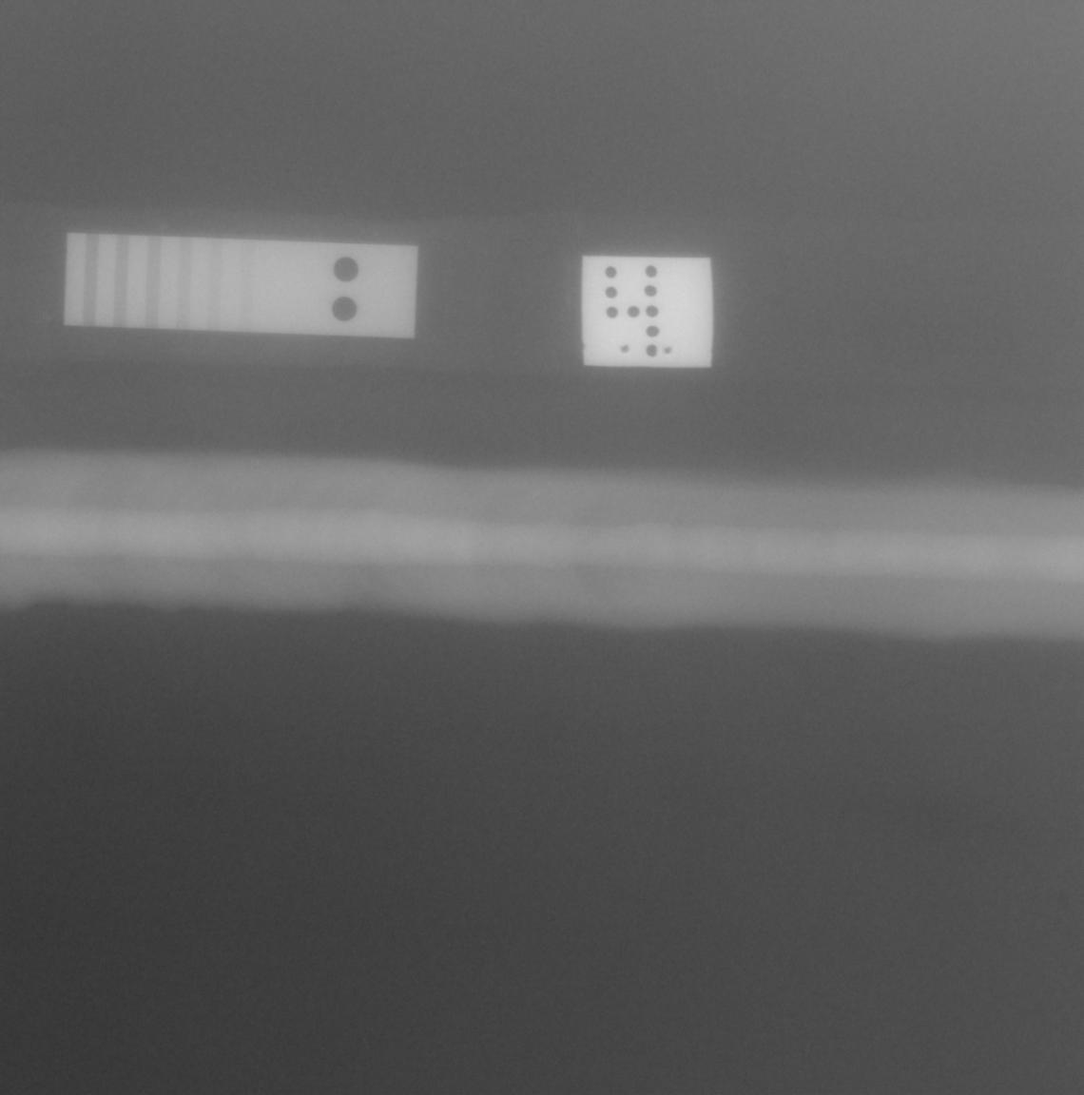Reference Standard 2: (64, 232, 418, 338)
